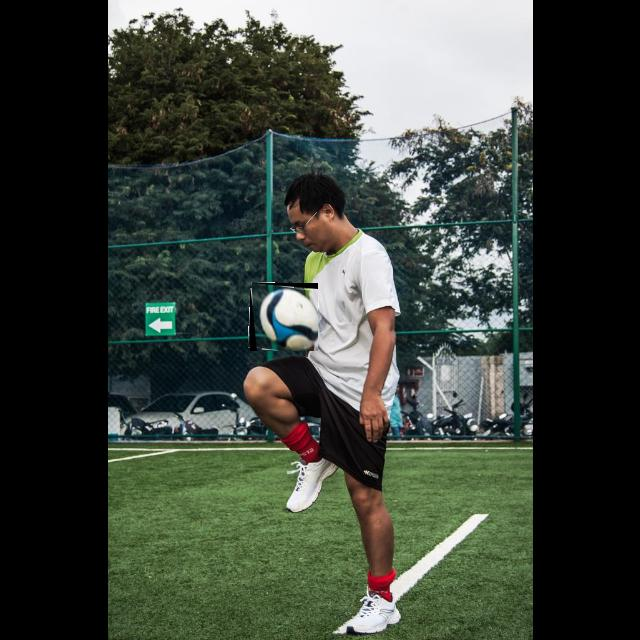Football: (250, 283, 318, 351)
